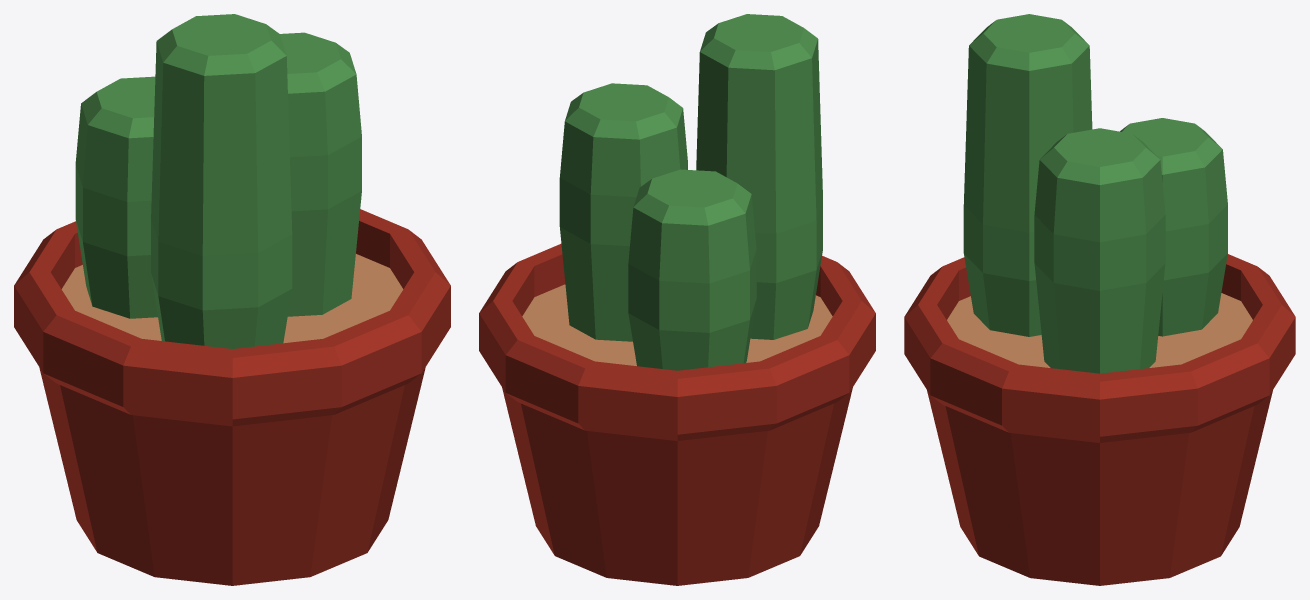
File: Plant B.glb
3 renders of one model, left to right at view 1: azimuth 30°, elevation 25°; view 2: azimuth 150°, elevation 25°; view 3: azimuth 270°, elevation 25°, orthographic. The views are drawn at different scales.
Parts seen in each view (by area): view 1: Plant B; view 2: Plant B; view 3: Plant B.
Part boxes in pixels (x1,y1,x2,y2): Plant B: (14,14,450,585); Plant B: (479,14,875,585); Plant B: (904,14,1295,585).
Bounding box in the file's own units: 91.16 × 121 × 91.16.
